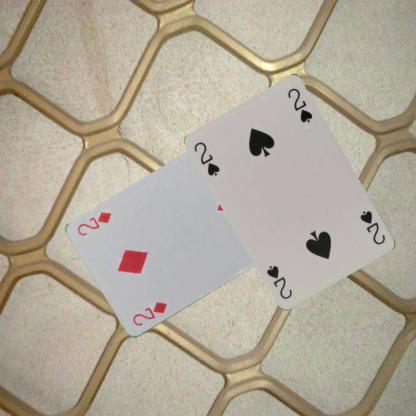2d: (129, 299, 169, 328)
2s: (357, 208, 387, 246), (192, 140, 222, 178)
